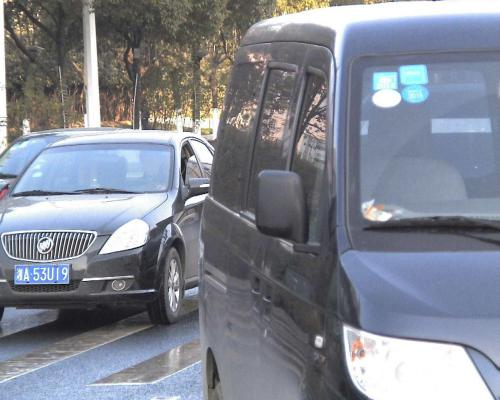Carplate: (12, 260, 72, 288)
